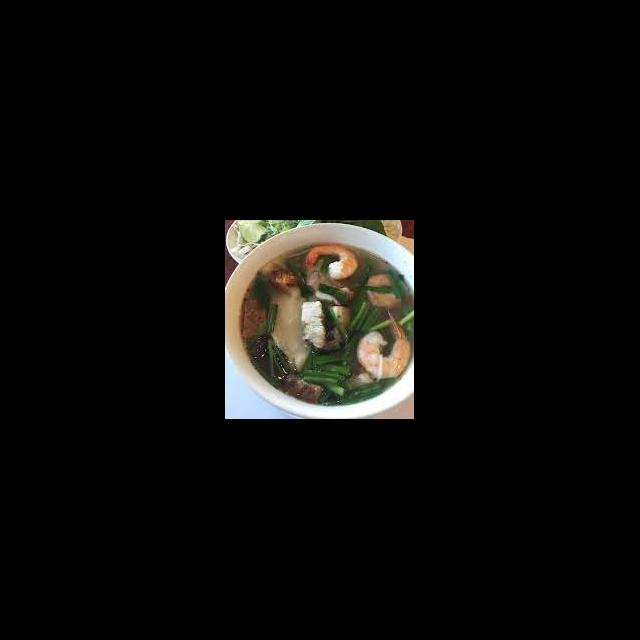ca: (260, 258, 322, 374), (298, 300, 354, 356)
tom: (354, 308, 414, 382), (304, 242, 362, 282), (364, 270, 408, 308)
